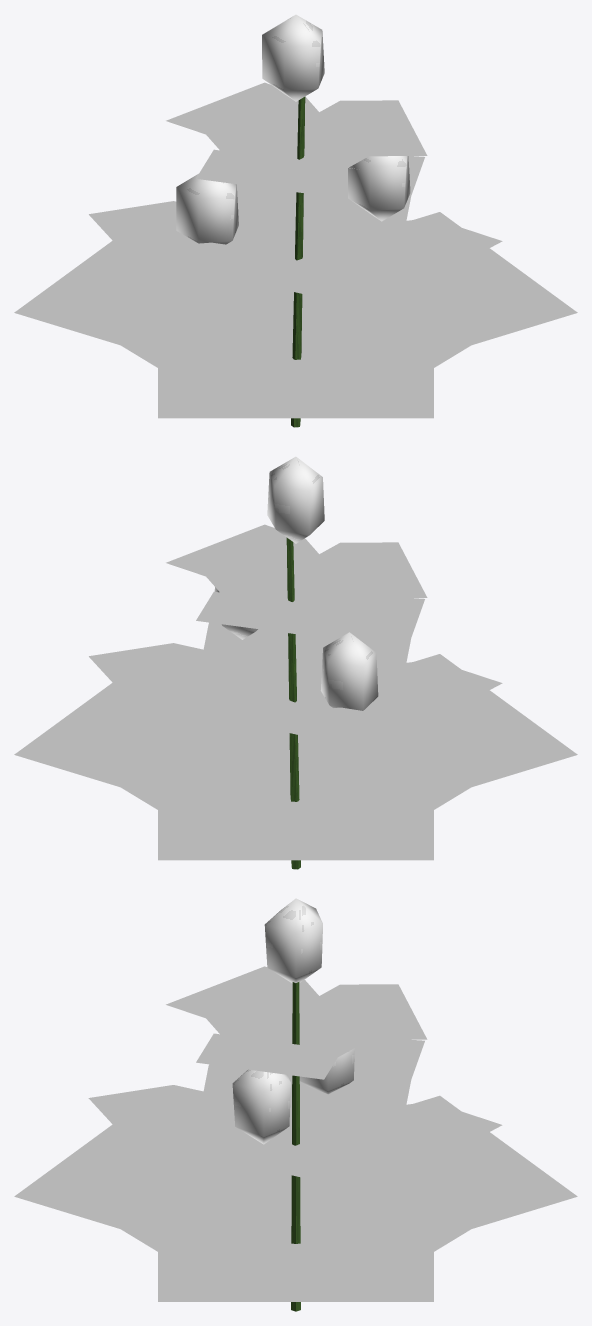
Rendered from hybrid_2_lod.obj.
3 renders of one model, top to bottom at view 1: azimuth 30°, elevation 25°; view 2: azimuth 150°, elevation 25°; view 3: azimuth 270°, elevation 25°, orthographic.
Visible parts, largest first — view 1: plant; view 2: plant; view 3: plant.
Boxes of the visible parts, <box> form: plant: <box>14,14,577,427</box>; plant: <box>14,456,577,869</box>; plant: <box>14,898,577,1311</box>.
Bounding box in the file's own units: 0.9489 × 0.8814 × 1.1.
